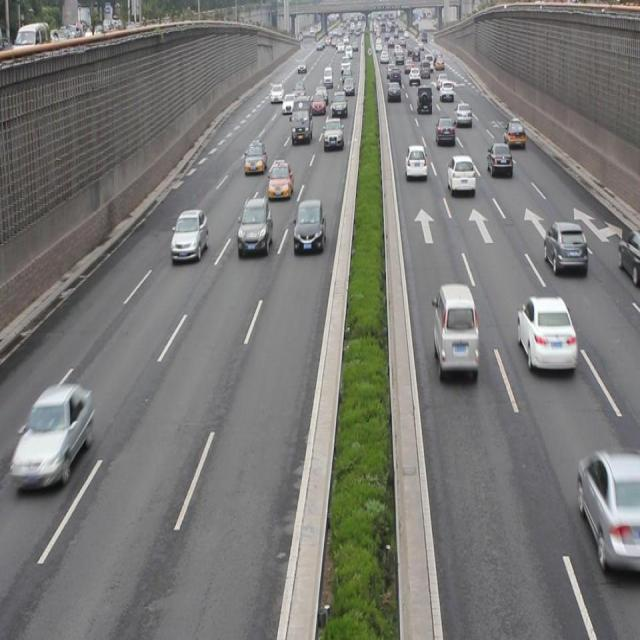car: (17, 382, 92, 489), (575, 452, 640, 572), (516, 294, 576, 372), (543, 219, 587, 276), (236, 195, 273, 258), (171, 207, 208, 264), (293, 197, 325, 252), (616, 226, 640, 284), (446, 154, 476, 192), (485, 141, 513, 178), (266, 160, 292, 198), (403, 144, 428, 180), (244, 140, 267, 175), (322, 115, 343, 150), (504, 116, 526, 147), (435, 114, 455, 148), (454, 101, 472, 127)
truck: (432, 283, 477, 372), (290, 92, 313, 144)
